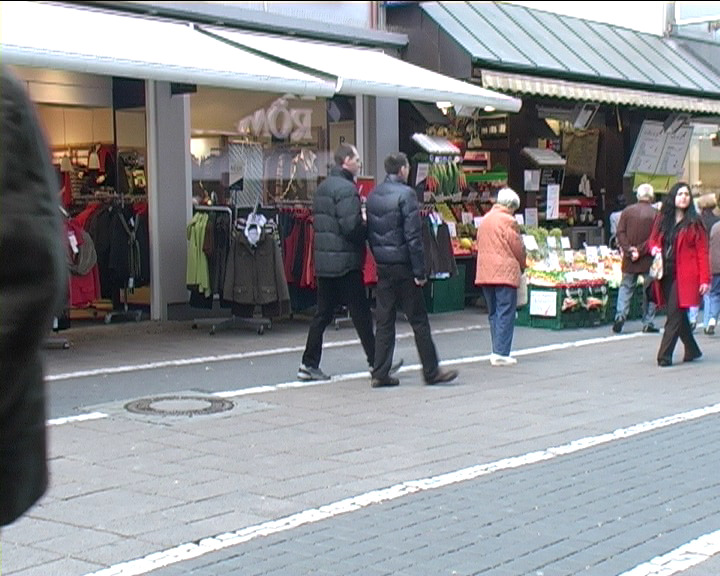deflection: (648, 181, 705, 235)
undeflect: (321, 145, 363, 197)
